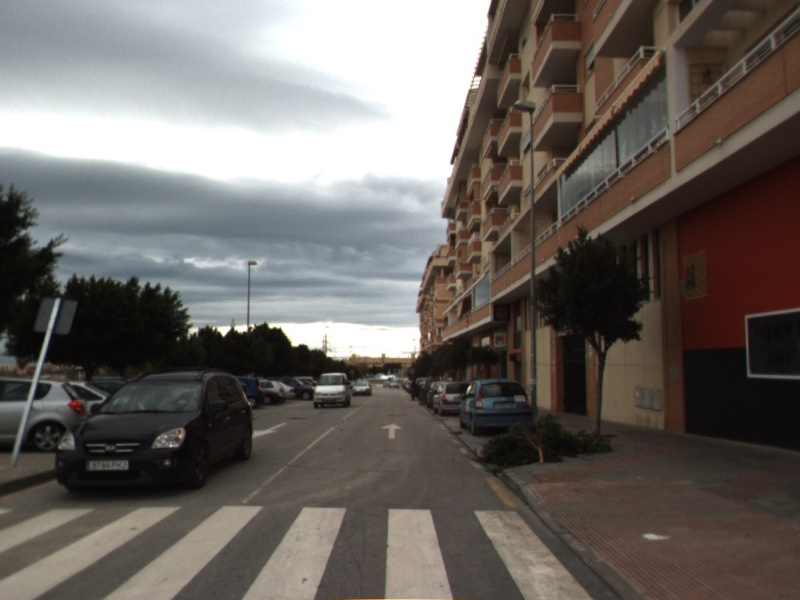STRAIGHT: (379, 421, 405, 441)
